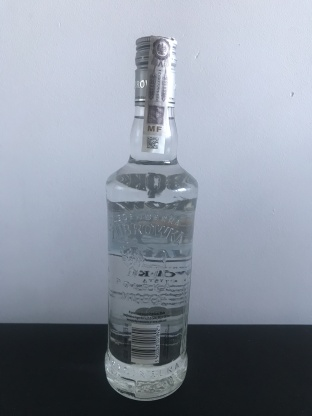nakretka: (132, 31, 179, 111)
